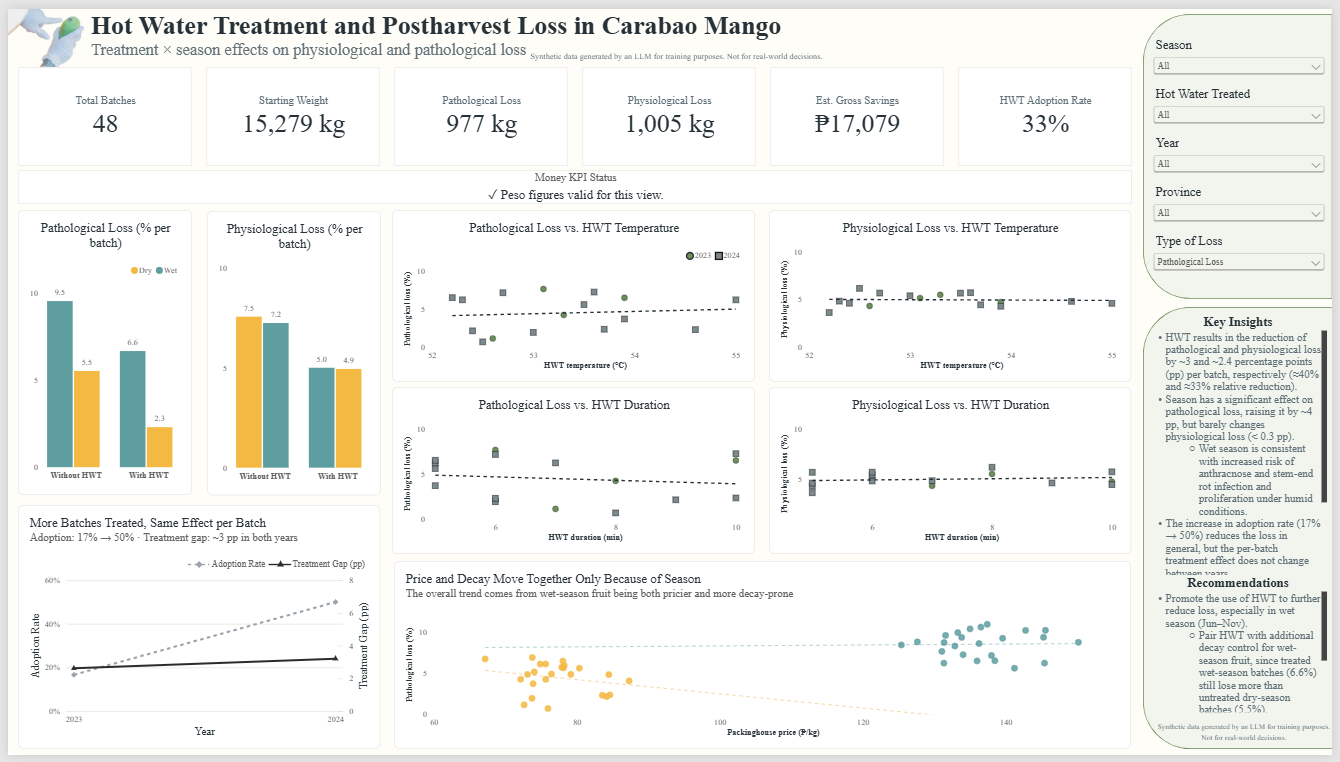

The page's visual inventory and layout, read from the dashboard file:
{"tool":"powerbi","page":{"name":"Analysis_HWT_Effect_Loss_v2","canvas":[1920,1080],"ordinal":1},"visuals":[{"type":"cardVisual","fields":{"Data":["mango_batch.n Batches"]},"box":[14.5,83.7,252.8,144],"z":0,"group":"g4"},{"type":"shape","box":[1644.3,10,275.7,1060],"z":500},{"type":"textbox","title":"Hot Water Treatment and Postharvest Loss in Carabao Mango","box":[119.6,2.5,1039.1,89.9],"z":1000,"group":"g2"},{"type":"cardVisual","fields":{"Data":["mango_batch.Adoption Rate"]},"box":[1377.4,83.7,252.8,144],"z":1000,"group":"g4"},{"type":"slicer","fields":{"Values":["mango_batch.year"]},"box":[1654.3,200.9,258.2,64.2],"z":1000,"group":"g1"},{"type":"clusteredColumnChart","title":"Pathological Loss (% per batch)","fields":{"Category":["mango_batch.HWT Status"],"Series":["mango_batch.season"],"Y":["mango_batch.% Pathological Loss"]},"box":[14.5,290.9,252.1,412.7],"z":1000,"group":"g3"},{"type":"scatterChart","title":"Pathological Loss vs. HWT Temperature","fields":{"Series":["mango_batch.year"],"X":["mango_batch.hwt_temp_c"],"Y":["mango_batch.loss_path_batch_pct"]},"box":[556.5,291.3,526.1,249.3],"z":1000},{"type":"slicer","fields":{"Values":["mango_batch.season"]},"box":[1654.3,58.6,258.2,64.2],"z":2000,"group":"g1"},{"type":"cardVisual","fields":{"Data":["mango_batch.Kg Pathological Loss"]},"box":[559.7,83.7,252.8,144],"z":2000,"group":"g4"},{"type":"scatterChart","title":"Physiological Loss vs. HWT Temperature","fields":{"Series":["mango_batch.year"],"X":["mango_batch.hwt_temp_c"],"Y":["mango_batch.loss_phys_batch_pct"]},"box":[1102.9,291.3,524.6,249.3],"z":2000},{"type":"clusteredColumnChart","title":"Physiological Loss (% per batch)","fields":{"Category":["mango_batch.HWT Status"],"Series":["mango_batch.season"],"Y":["mango_batch.% Physiological Loss"]},"box":[287.8,293,252.1,412],"z":2000,"group":"g3"},{"type":"cardVisual","fields":{"Data":["mango_batch.Kg Physiological Loss"]},"box":[832.3,83.7,252.8,144],"z":3000,"group":"g4"},{"type":"slicer","fields":{"Values":["mango_batch.province_clean"]},"box":[1654.3,272,258.2,64.2],"z":3000,"group":"g1"},{"type":"scatterChart","title":"Pathological Loss vs. HWT Duration","fields":{"Series":["mango_batch.year"],"X":["mango_batch.hwt_duration_min"],"Y":["mango_batch.loss_path_batch_pct"]},"box":[556.5,548.2,526.1,242],"z":3000},{"type":"cardVisual","fields":{"Data":["mango_batch.Total Starting Weight (kg)"]},"box":[287.1,83.7,252.8,144],"z":4000,"group":"g4"},{"type":"slicer","fields":{"Values":["mango_batch.hot_water_treated"]},"box":[1654.3,129.7,258.2,64.2],"z":4000,"group":"g1"},{"type":"scatterChart","title":"Physiological Loss vs. HWT Duration","fields":{"Series":["mango_batch.year"],"X":["mango_batch.hwt_duration_min"],"Y":["mango_batch.loss_phys_batch_pct"]},"box":[1102.9,548.2,524.6,242],"z":4000},{"type":"cardVisual","fields":{"Data":["mango_batch.Money KPI Status"]},"box":[14.6,232.3,1615.7,50.7],"z":5000,"group":"g4"},{"type":"slicer","fields":{"Values":["Type of Loss.Type of Loss"]},"box":[1654.4,343.1,258,62.5],"z":5000,"group":"g1"},{"type":"lineChart","title":"More Batches Treated, Same Effect per Batch","fields":{"Category":["mango_batch.year"],"Y":["mango_batch.Adoption Rate"],"Y2":["mango_batch.Treatment Gap (pp)"]},"box":[14.3,719,525.2,353.1],"z":5000},{"type":"group","id":"g1","title":"Group 2","box":[1654.3,58.6,258.6,347.1],"z":6000},{"type":"cardVisual","fields":{"Data":["mango_batch.Est. Gross Savings Total from HWT"]},"box":[1104.8,83.7,252.8,144],"z":6000,"group":"g4"},{"type":"group","id":"g2","title":"Group 4","box":[14.5,2.5,1615.8,568.5],"z":7000},{"type":"group","id":"g3","title":"Group 3","box":[14.5,290.9,525.4,414.1],"z":8000},{"type":"group","id":"g4","title":"Group 1","box":[14.5,83.7,1615.8,199.4],"z":10000,"group":"g2"},{"type":"textbox","box":[0,413,252,158],"z":10000},{"type":"textbox","title":"Key Insights","box":[1654.3,421.4,258,378.3],"z":11000},{"type":"textbox","box":[273,413,252,158],"z":11001,"group":"g2"},{"type":"textbox","title":"Recommendations","box":[1653.6,820.3,258,198.6],"z":12000},{"type":"textbox","title":"Recommendations","box":[1662.3,1031.9,258,47.8],"z":13000},{"type":"scatterChart","title":"Price and Decay Move Together Only Because of Season","fields":{"Series":["mango_batch.season"],"X":["mango_batch.price_packinghouse_php_kg"],"Y":["mango_batch.loss_path_batch_pct"]},"box":[559.4,800,1068.1,272.5],"z":14000},{"type":"textbox","title":"Recommendations","box":[756.5,60.9,424.6,23.2],"z":15000},{"type":"image","box":[0,0,111.6,84.1],"z":17000}]}

Visuals, with their boxes in screenshot pixels (x1, y1, x2, y2), scaled from the page's 1920x1080 canvas onto the 1340x762 screenshot:
cardVisual - mango_batch.n Batches: 10:59:187:161
shape: 1148:7:1339:755
"Hot Water Treatment and Postharvest Loss in Carabao Mango" textbox: 83:2:809:65
cardVisual - mango_batch.Adoption Rate: 961:59:1138:161
slicer - mango_batch.year: 1155:142:1335:187
"Pathological Loss (% per batch)" clusteredColumnChart: 10:205:186:496
"Pathological Loss vs. HWT Temperature" scatterChart: 388:206:756:381
slicer - mango_batch.season: 1155:41:1335:87
cardVisual - mango_batch.Kg Pathological Loss: 391:59:567:161
"Physiological Loss vs. HWT Temperature" scatterChart: 770:206:1136:381
"Physiological Loss (% per batch)" clusteredColumnChart: 201:207:377:497
cardVisual - mango_batch.Kg Physiological Loss: 581:59:757:161
slicer - mango_batch.province_clean: 1155:192:1335:237
"Pathological Loss vs. HWT Duration" scatterChart: 388:387:756:558
cardVisual - mango_batch.Total Starting Weight (kg): 200:59:377:161
slicer - mango_batch.hot_water_treated: 1155:92:1335:137
"Physiological Loss vs. HWT Duration" scatterChart: 770:387:1136:558
cardVisual - mango_batch.Money KPI Status: 10:164:1138:200
slicer - Type of Loss.Type of Loss: 1155:242:1335:286
"More Batches Treated, Same Effect per Batch" lineChart: 10:507:377:756
"Group 2" group: 1155:41:1335:286
cardVisual - mango_batch.Est. Gross Savings Total from HWT: 771:59:947:161
"Group 4" group: 10:2:1138:403
"Group 3" group: 10:205:377:497
"Group 1" group: 10:59:1138:200
textbox: 0:291:176:403
"Key Insights" textbox: 1155:297:1335:564
textbox: 191:291:366:403
"Recommendations" textbox: 1154:579:1334:719
"Recommendations" textbox: 1160:728:1339:761
"Price and Decay Move Together Only Because of Season" scatterChart: 390:564:1136:757
"Recommendations" textbox: 528:43:824:59
image: 0:0:78:59
